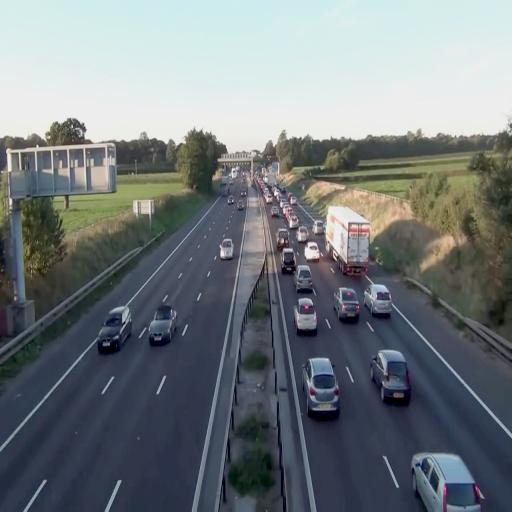vehicle: (411, 452, 485, 512), (325, 205, 371, 275), (370, 348, 411, 404), (303, 356, 340, 416), (97, 305, 132, 354), (148, 304, 176, 346), (334, 286, 360, 322), (294, 294, 317, 334), (366, 284, 392, 316), (294, 264, 314, 294), (281, 247, 296, 273), (218, 238, 234, 260), (304, 240, 321, 260)
